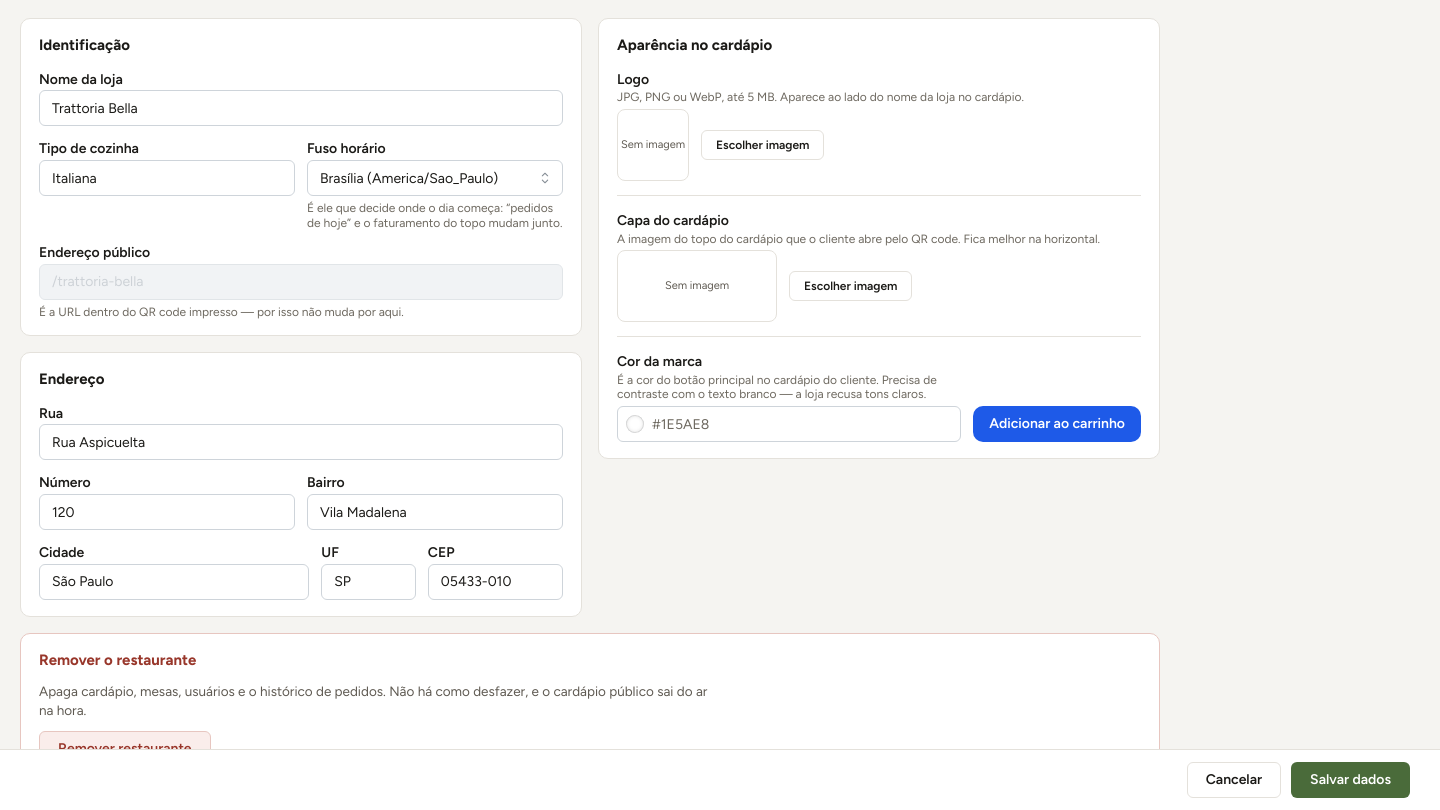
Test: StoreDataPage › salvar que falha não avisa que salvou
Replace the text in the field labelled "Nome da loja" with "Trattoria Bela" at (301, 108), box [39,90,563,126]
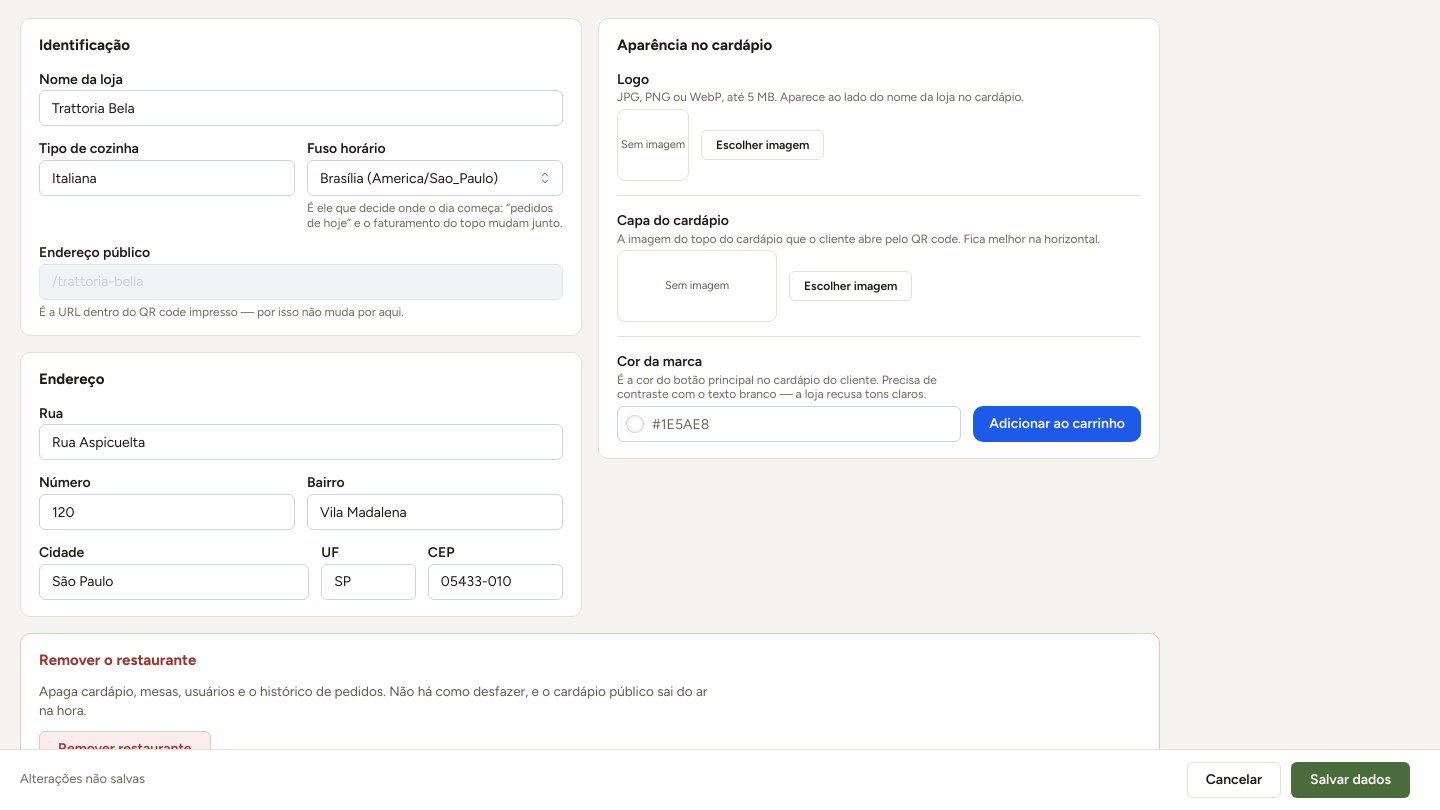
Click the button "Salvar dados" at (1351, 780), box [1291,762,1410,798]
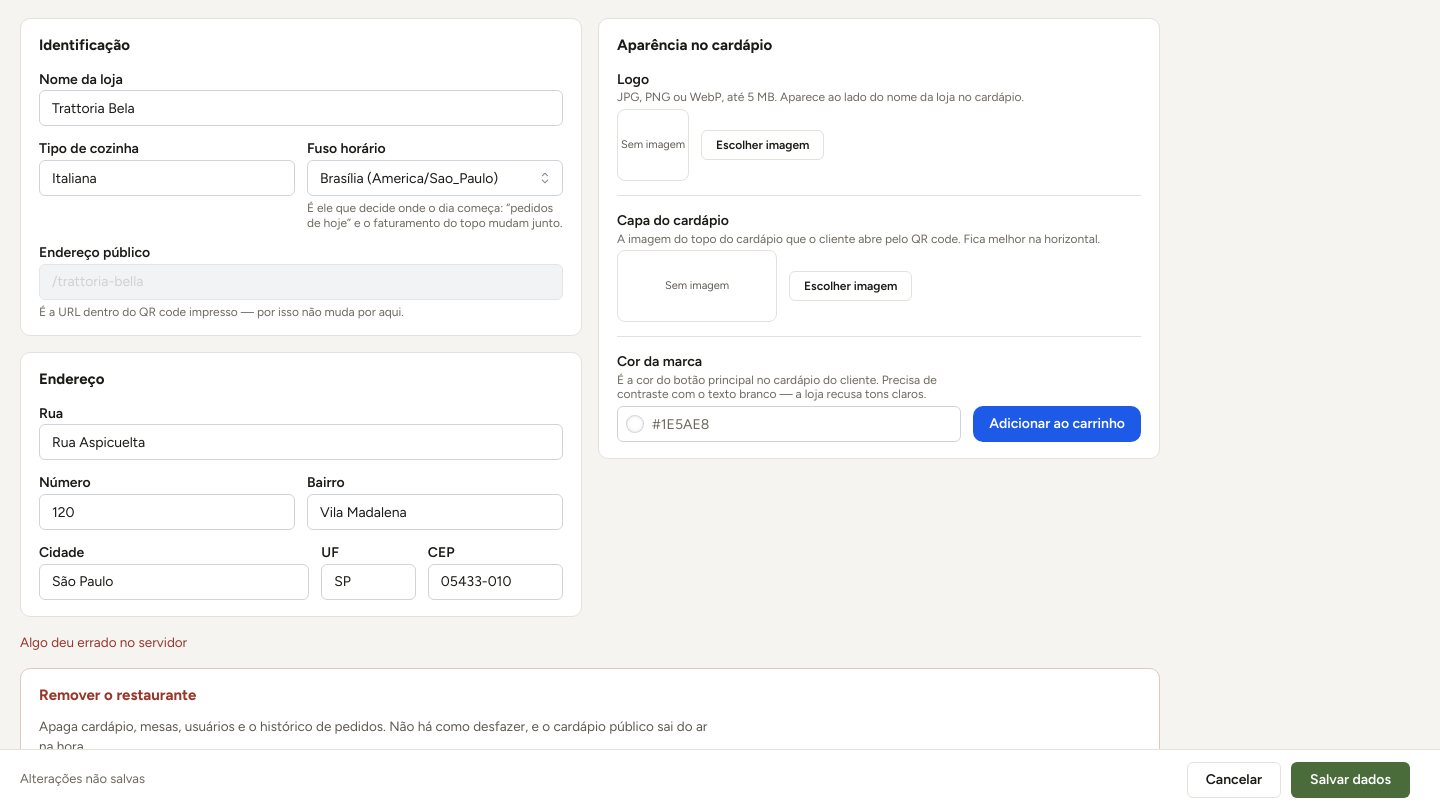
Check: the text "Algo deu errado no servidor" is shown, box [20,634,187,650]
